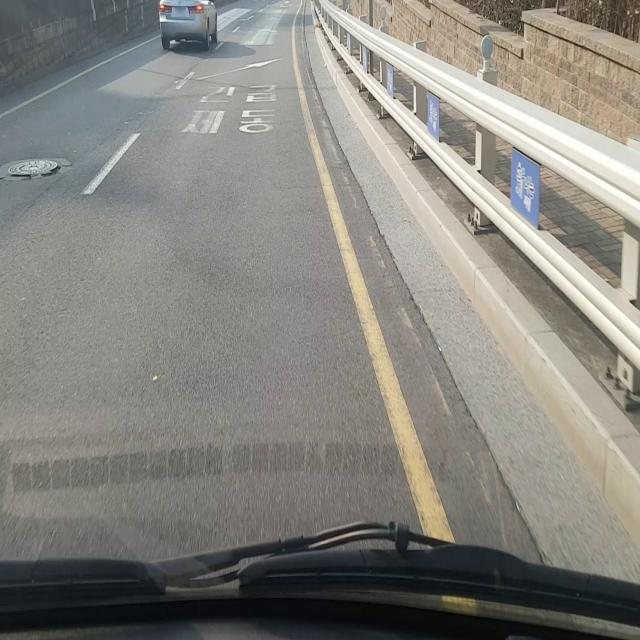Pothole: (7, 158, 62, 182)
